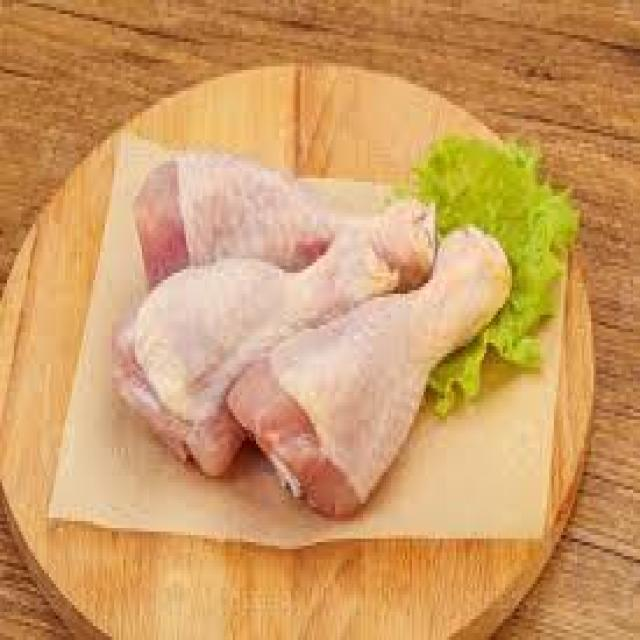leg: (260, 250, 519, 500), (124, 255, 384, 450), (133, 162, 429, 298)
